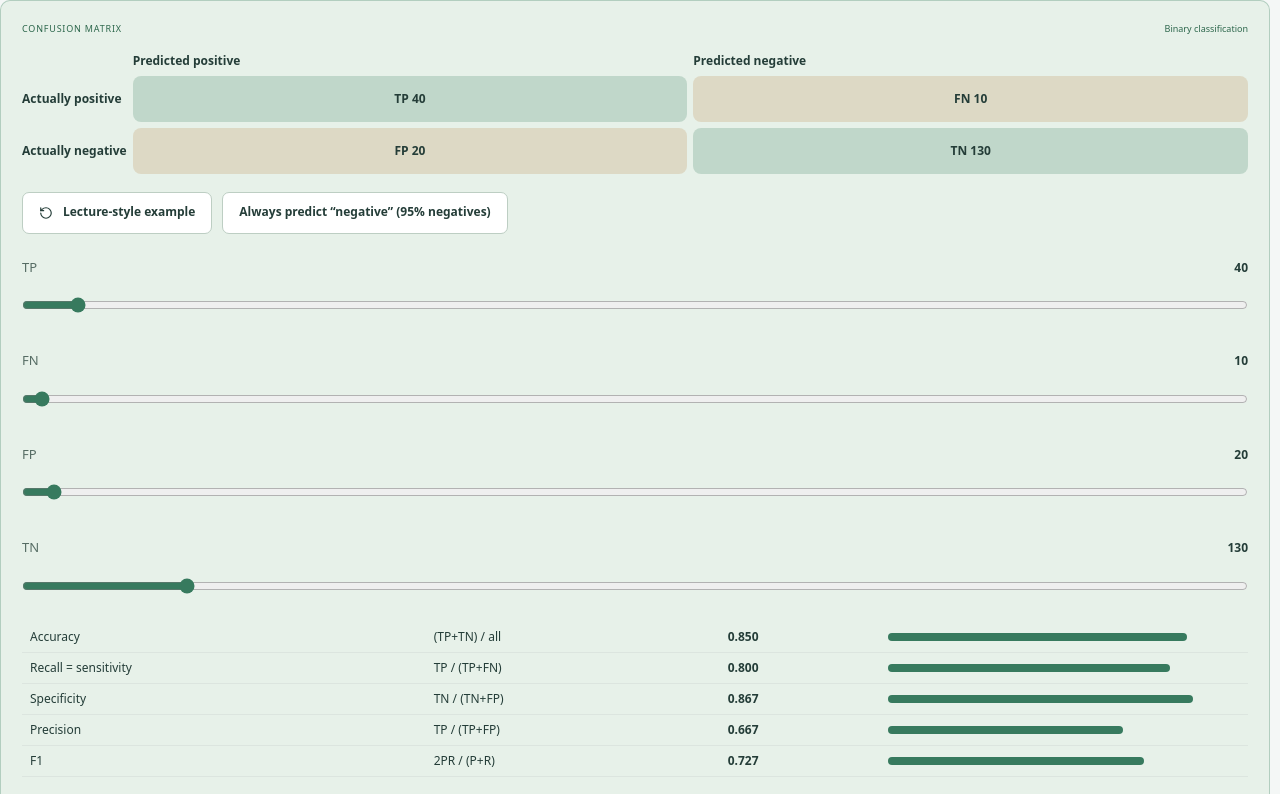
Test: ML illustrations render and respond › shows the accuracy trap in the confusion preset
This screenshot has width=1280, height=794.
Click the button "Always predict “negative” (95% negatives)" at {"x": 365, "y": 212}, box [222,192,508,234]
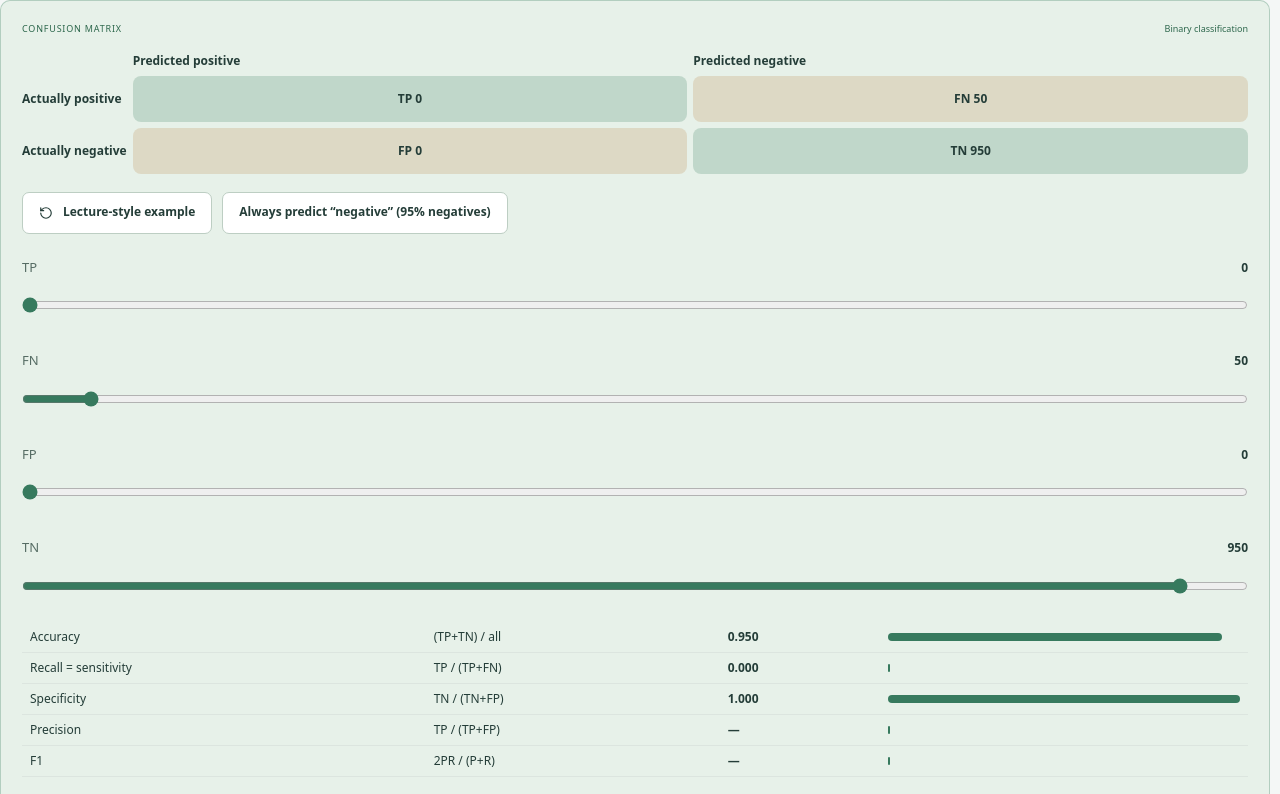
Check: the text "Accuracy" shows "0.950", box [728,628,758,644]
Check: the text "Recall = sensitivity" shows "0.000", box [728,658,758,676]
